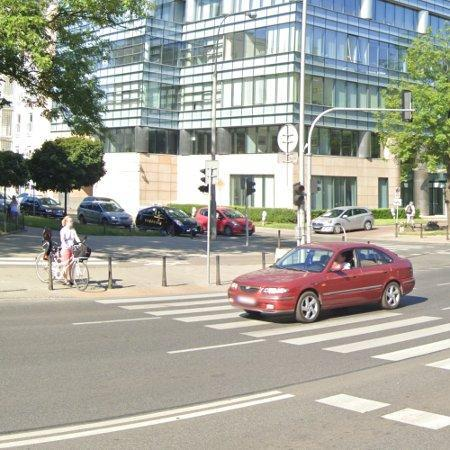crosswalks: (101, 291, 450, 375)
